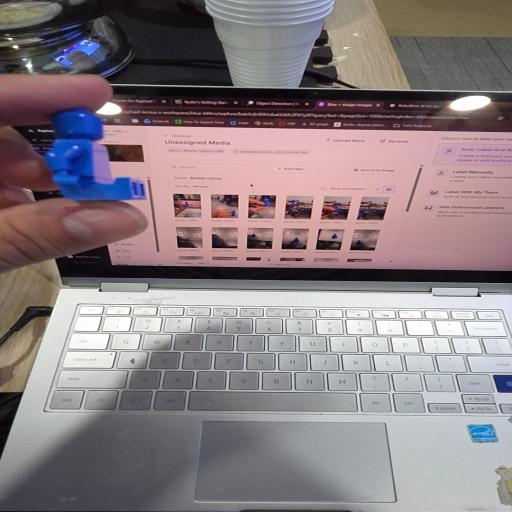Blue: (45, 109, 146, 200)
